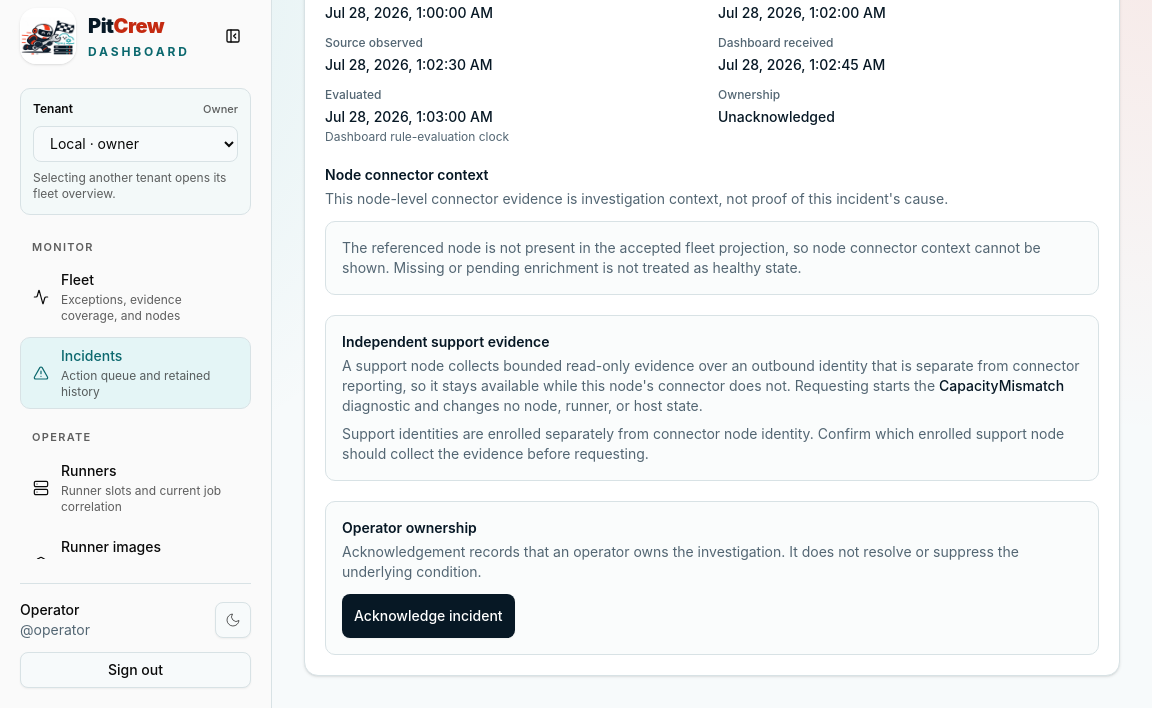
Test case: IncidentsPage › acknowledges an active incident and refreshes its lifecycle state
The image size is (1152, 708).
(page scrolled)
Click the button "Acknowledge incident".
click(428, 616)  # box [342,594,515,638]
(page scrolled)
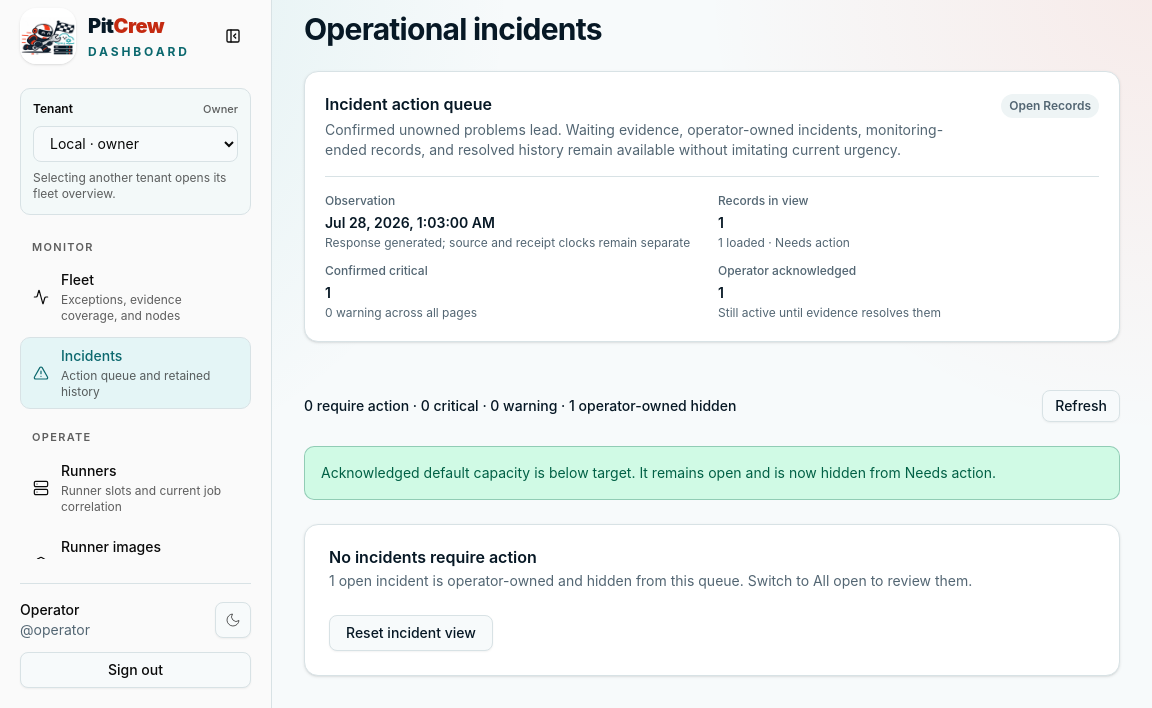
Now the text "Acknowledged default capacity is below target. It remains open and is now hidden from Needs action." is shown, box [321,464,996,481]
